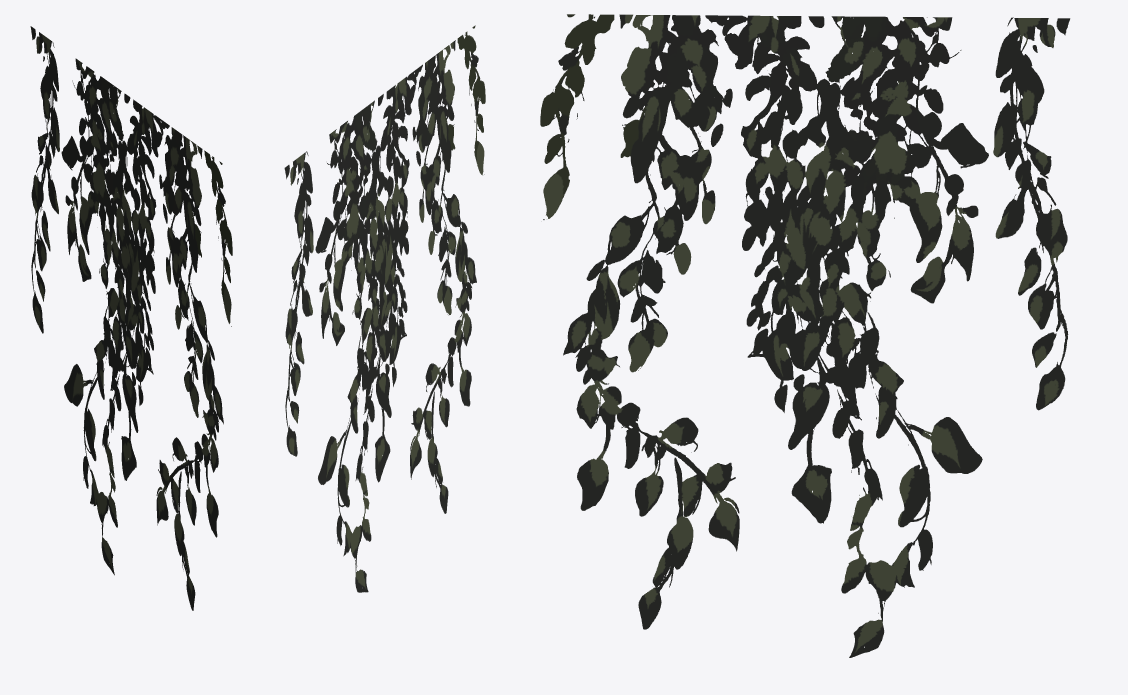
File: vines window.fbx
3 renders of one model, left to right at view 1: azimuth 30°, elevation 25°; view 2: azimuth 150°, elevation 25°; view 3: azimuth 270°, elevation 25°, orthographic. The views are drawn at different scales.
Visible parts, largest first — view 1: pPlane1; view 2: pPlane1; view 3: pPlane1.
Boxes of the visible parts, x1,y1,x2,y2 form: pPlane1: (30, 26, 232, 610); pPlane1: (284, 25, 485, 592); pPlane1: (540, 14, 1070, 657).
Size of the model in its own units: 3.65e-16 by 5.96 by 4.8.
